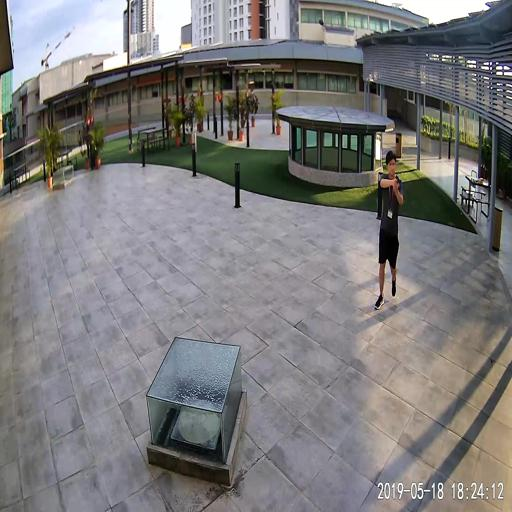pistol: (393, 173, 400, 189)
